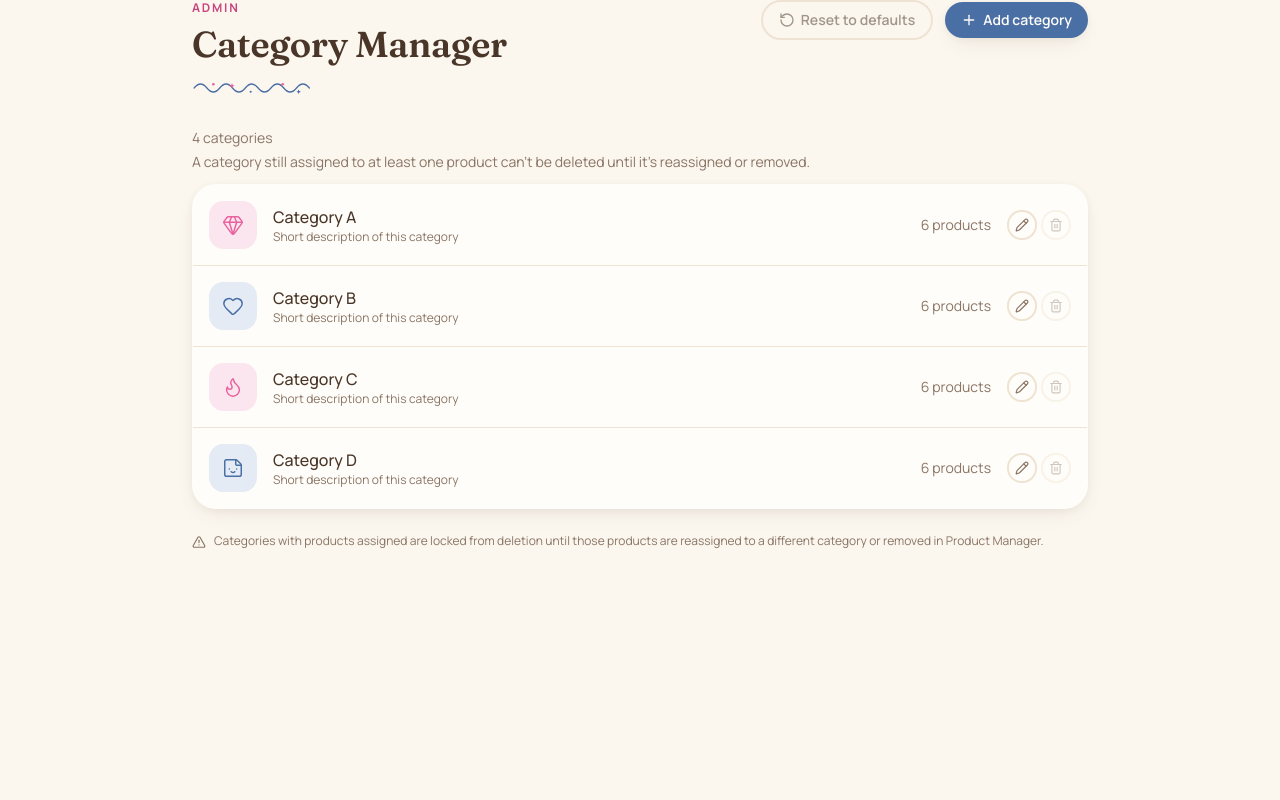
Scenario: CategoryManager › edits an existing category and reflects the change in the list
This screenshot has width=1280, height=800.
Click the button named "Edit Category A": [1022, 225] box x1=1007 y1=210 x2=1037 y2=240
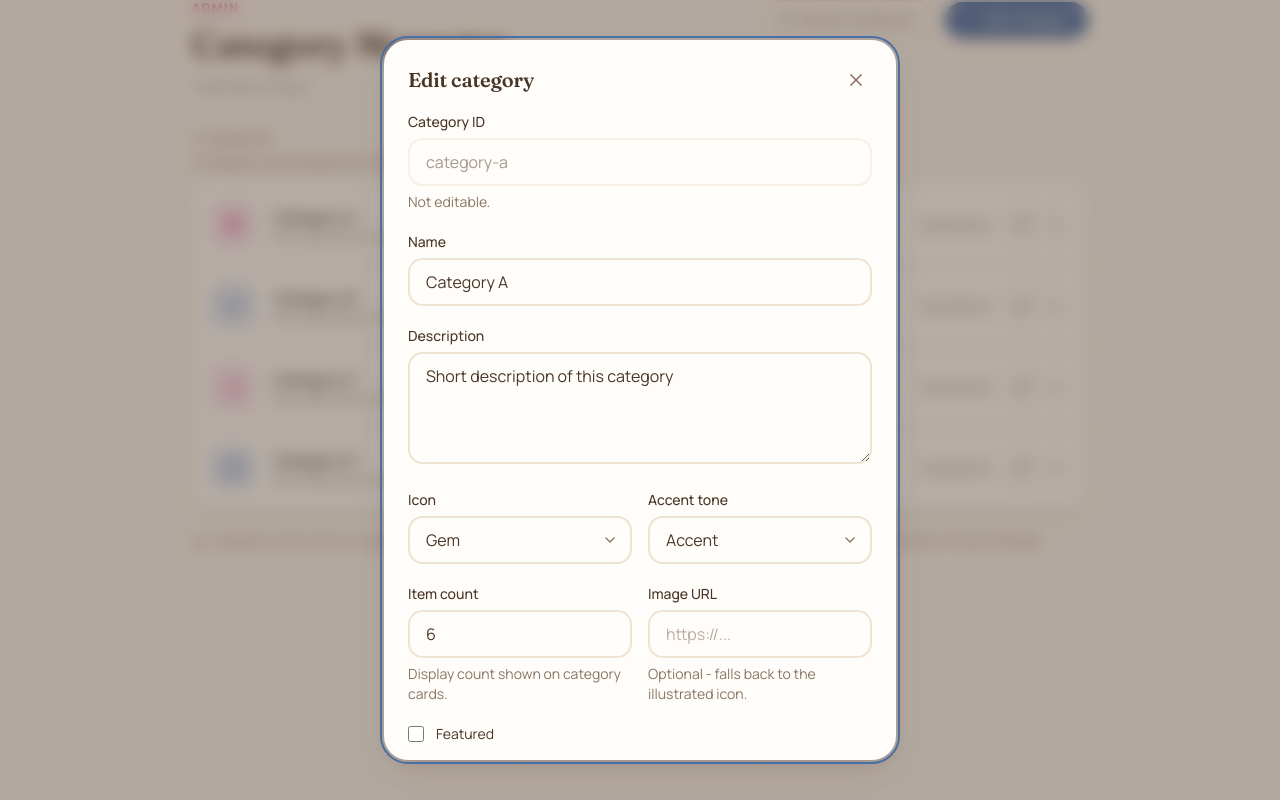
Replace the text in the field labelled "Name" with "Renamed Category": [640, 282] box x1=408 y1=258 x2=872 y2=306
(page scrolled)
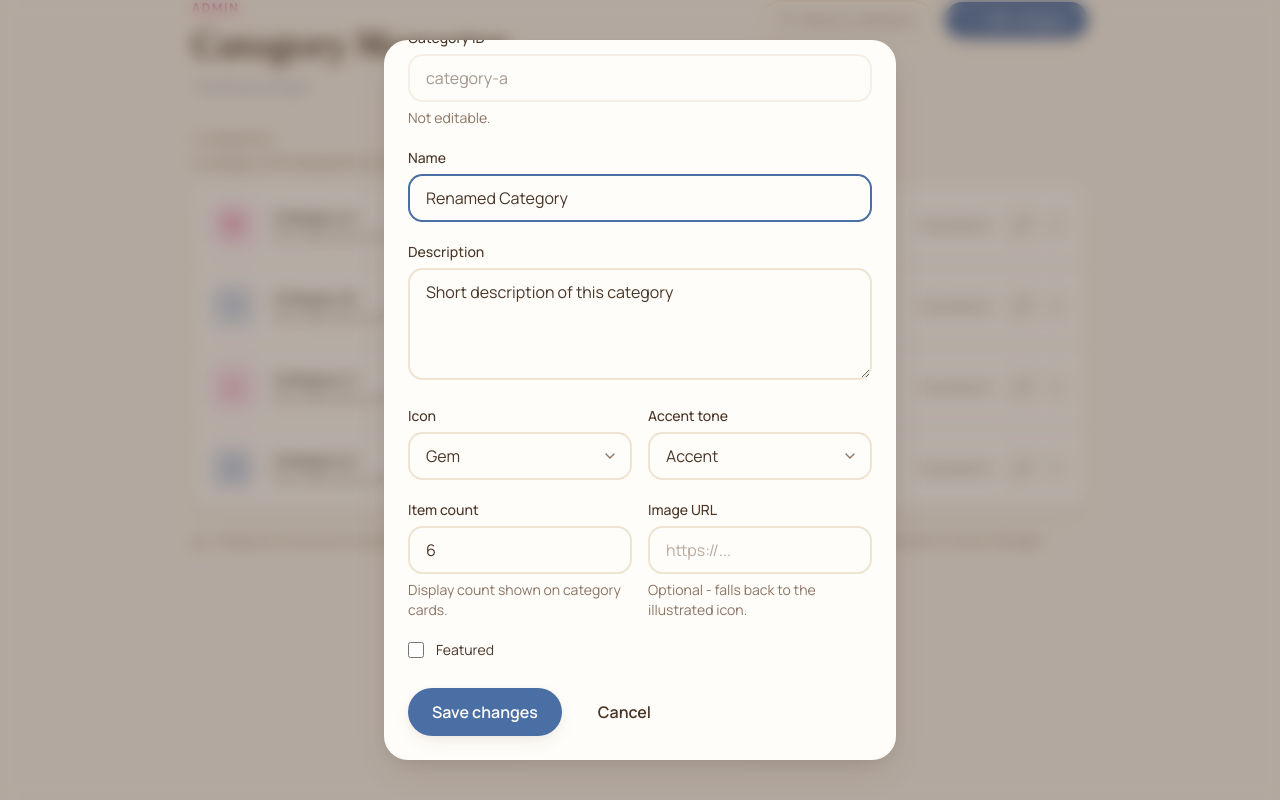
Click the button "Save changes": [485, 712] box x1=408 y1=688 x2=562 y2=736
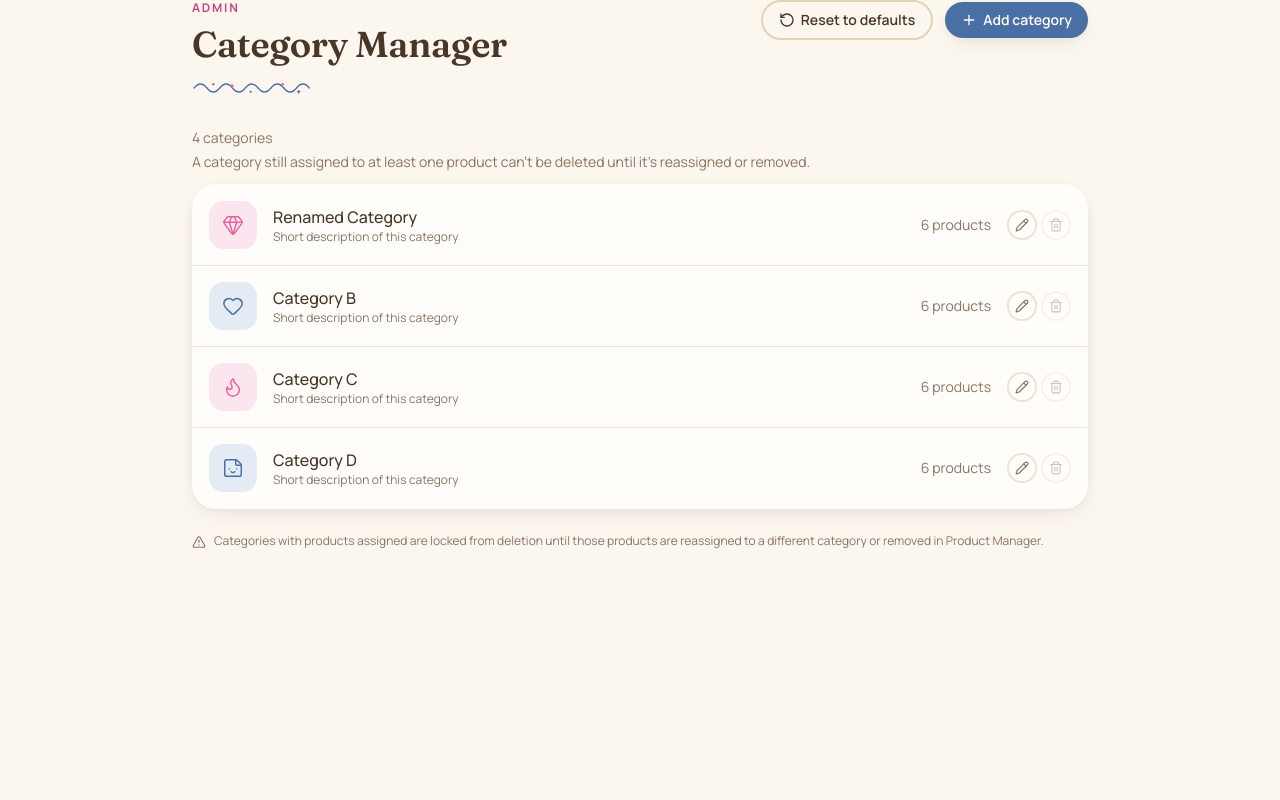
Expected: the text "Renamed Category" is shown, x1=273 y1=206 x2=417 y2=228
Expected: the text "Category A" is gone
